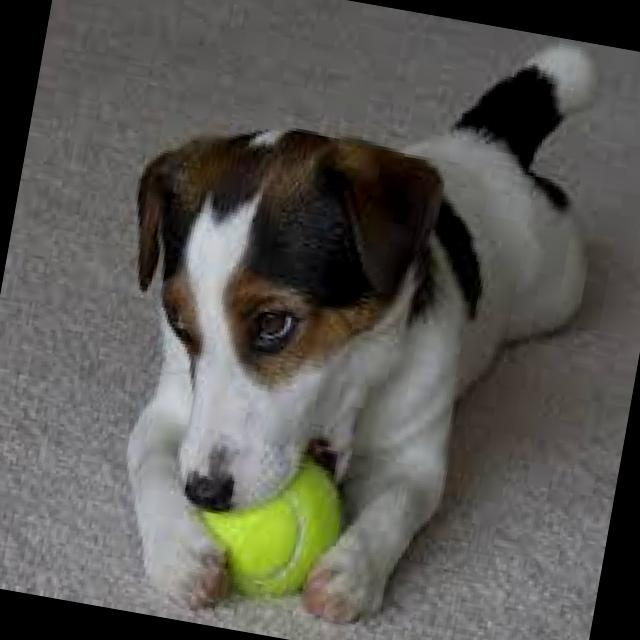Tennis Ball: (184, 436, 357, 607)
